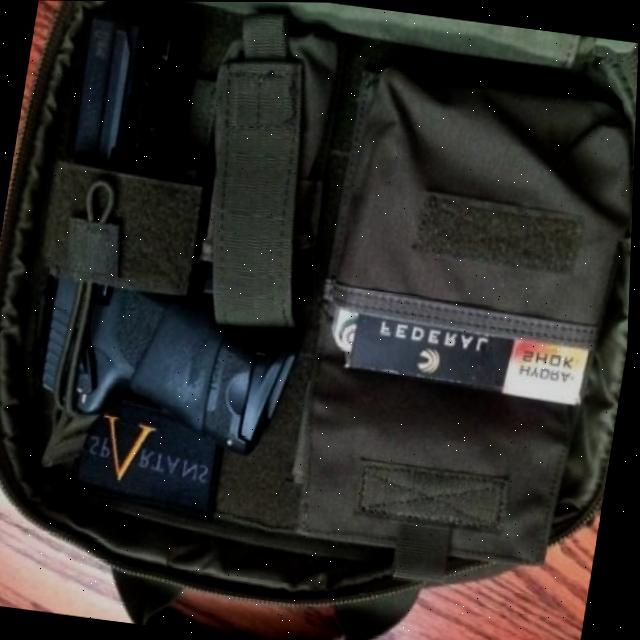pistol: (20, 3, 349, 460)
